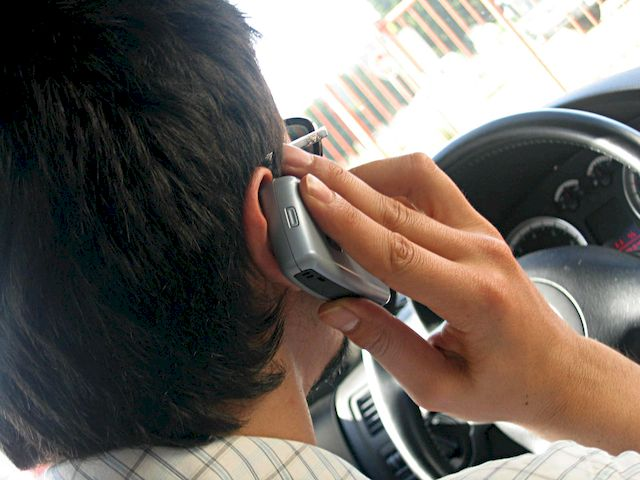phone: (269, 169, 398, 313)
